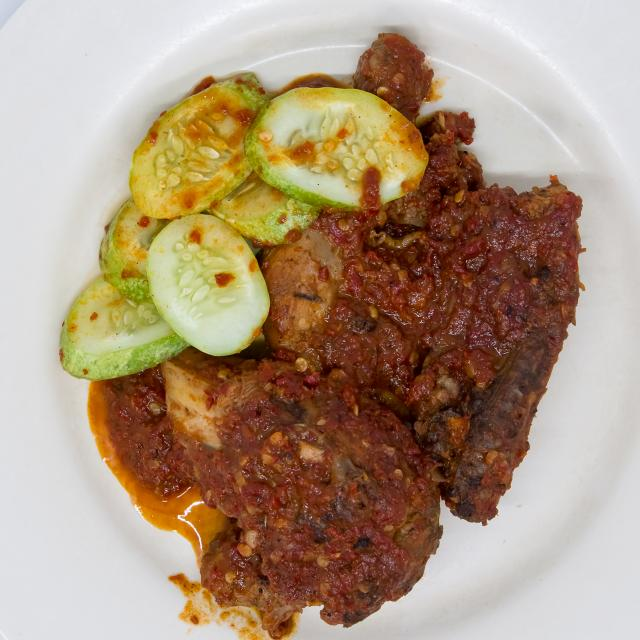Ayam-Bumbu-Rujak: (91, 12, 587, 632)
